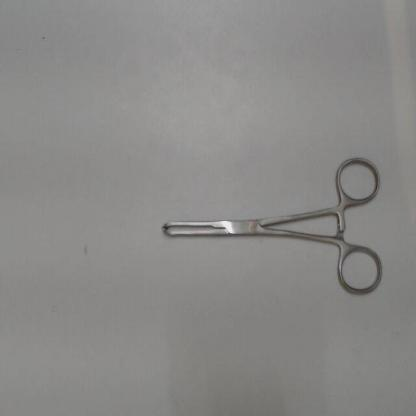Allis Tissue Forceps: (155, 152, 386, 309)
